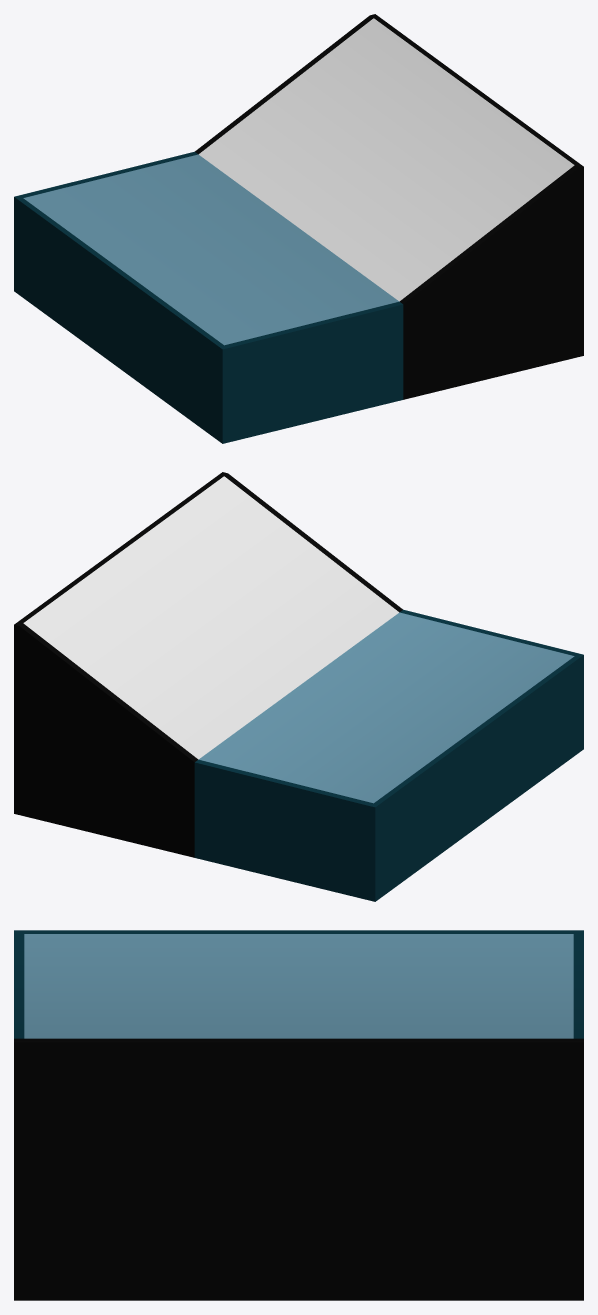
The model's file is Agua_13.fbx.
3 views of the same model, one above another, from view 1: azimuth 30°, elevation 25°; view 2: azimuth 150°, elevation 25°; view 3: azimuth 270°, elevation 25° (orthographic). The views are drawn at different scales.
Parts seen in each view (by area): view 1: pCube2; view 2: pCube2; view 3: pCube2.
Boxes of the visible parts, x1,y1,x2,y2 form: pCube2: (14, 14, 583, 443); pCube2: (14, 472, 583, 901); pCube2: (14, 930, 583, 1300).
Size of the model in its own units: 200 by 100 by 200.
